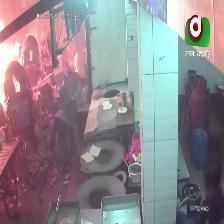fire: (0, 9, 40, 84)
